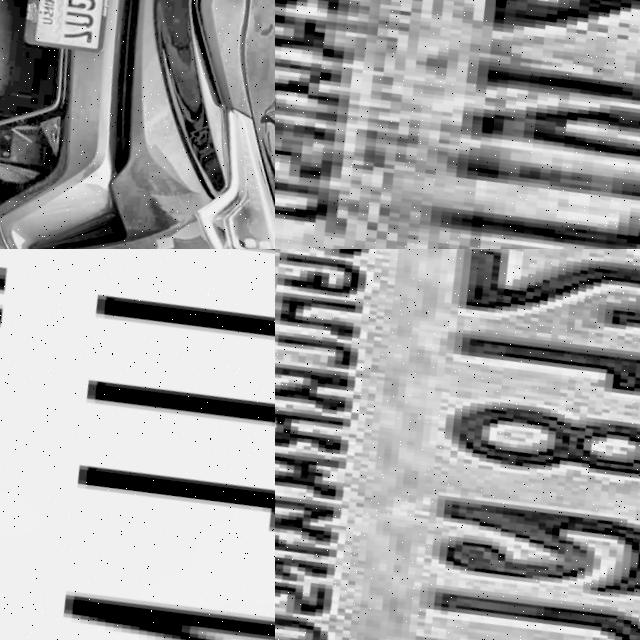license-plate: (275, 249, 640, 640), (0, 249, 275, 640), (275, 0, 640, 249), (5, 0, 122, 58)
